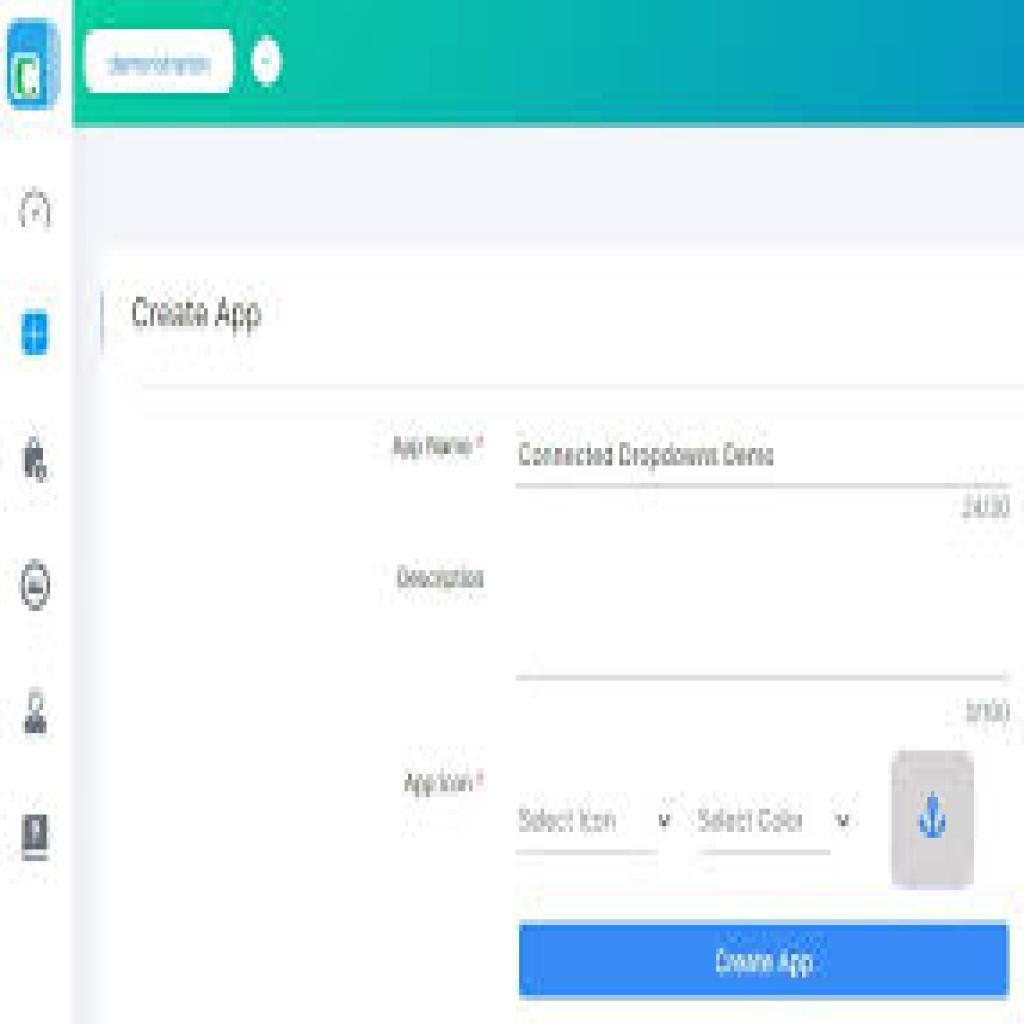button: (521, 923, 1011, 999)
icon: (14, 810, 58, 870), (17, 557, 56, 620), (15, 187, 59, 239), (17, 304, 54, 364), (15, 433, 55, 488), (20, 685, 54, 742)
